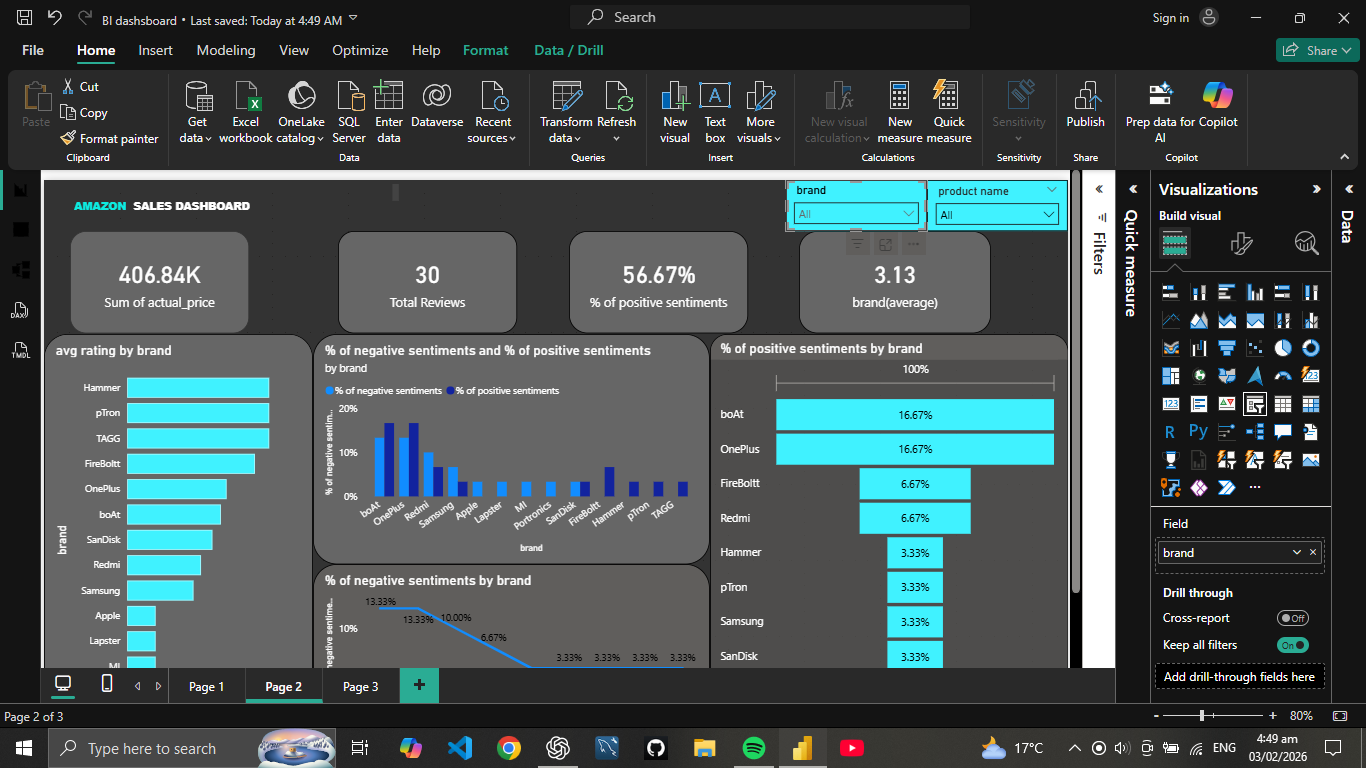

The page's visual inventory and layout, read from the dashboard file:
{"tool":"powerbi","page":{"name":"Page 2","canvas":[1280,720],"ordinal":1},"visuals":[{"type":"card","fields":{"Values":["fact_product-reviews.brand(average)"]},"box":[944,64,240,128],"z":0},{"type":"card","fields":{"Values":["fact_product-reviews.Total Reviews"]},"box":[368,64,224,128],"z":1000},{"type":"card","fields":{"Values":["Sum(fact_product-reviews.actual_price)"]},"box":[32,64,224,128],"z":2000},{"type":"card","fields":{"Values":["fact_product-reviews.% of positive sentiments"]},"box":[656,64,224,128],"z":3000},{"type":"textbox","box":[32,0,416,48],"z":4000},{"type":"barChart","fields":{"Category":["Dim brand.brand"],"Y":["fact_product-reviews.avg rating"]},"box":[0,192,336,528],"z":5000},{"type":"slicer","fields":{"Values":["Dim product.name"]},"box":[1104,0,176,64],"z":7000},{"type":"funnel","fields":{"Category":["Dim brand.brand"],"Y":["fact_product-reviews.% of positive sentiments"]},"box":[832,192,448,528],"z":8000},{"type":"slicer","fields":{"Values":["Dim brand.brand"]},"box":[928,0,176,64],"z":8001},{"type":"lineChart","fields":{"Category":["Dim brand.brand"],"Y":["fact_product-reviews.% of negative sentiments"]},"box":[336,480,496,240],"z":8002},{"type":"clusteredColumnChart","fields":{"Category":["Dim brand.brand"],"Y":["fact_product-reviews.% of negative sentiments","fact_product-reviews.% of positive sentiments"]},"box":[336,192,496,288],"z":8003}]}

Visuals, with their boxes on the page's 1280x720 design canvas (x1, y1, x2, y2). These are canvas units, not pixel positions in the 1366x768 screenshot, which may show the page scaled, cropped or inside an application window:
card - fact_product-reviews.brand(average): <box>944,64,1184,192</box>
card - fact_product-reviews.Total Reviews: <box>368,64,592,192</box>
card - Sum(fact_product-reviews.actual_price): <box>32,64,256,192</box>
card - fact_product-reviews.% of positive sentiments: <box>656,64,880,192</box>
textbox: <box>32,0,448,48</box>
barChart - Dim brand.brand x fact_product-reviews.avg rating: <box>0,192,336,720</box>
slicer - Dim product.name: <box>1104,0,1280,64</box>
funnel - Dim brand.brand x fact_product-reviews.% of positive sentiments: <box>832,192,1280,720</box>
slicer - Dim brand.brand: <box>928,0,1104,64</box>
lineChart - Dim brand.brand x fact_product-reviews.% of negative sentiments: <box>336,480,832,720</box>
clusteredColumnChart - Dim brand.brand x fact_product-reviews.% of negative sentiments: <box>336,192,832,480</box>
